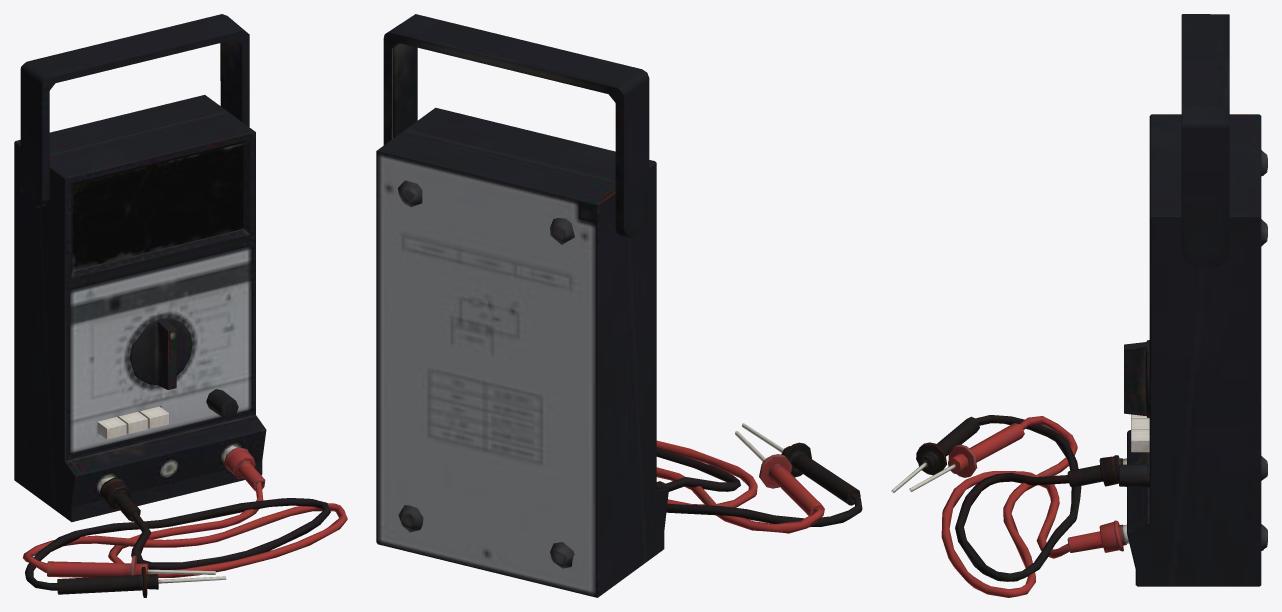
File: tracker.glb
3 views of the same model, side by side, from view 1: azimuth 30°, elevation 25°; view 2: azimuth 150°, elevation 25°; view 3: azimuth 270°, elevation 25° (orthographic). The views are drawn at different scales.
Bounding box in the file's own units: 0.2156 × 0.2786 × 0.2024.
2 materials, 2 textured.
